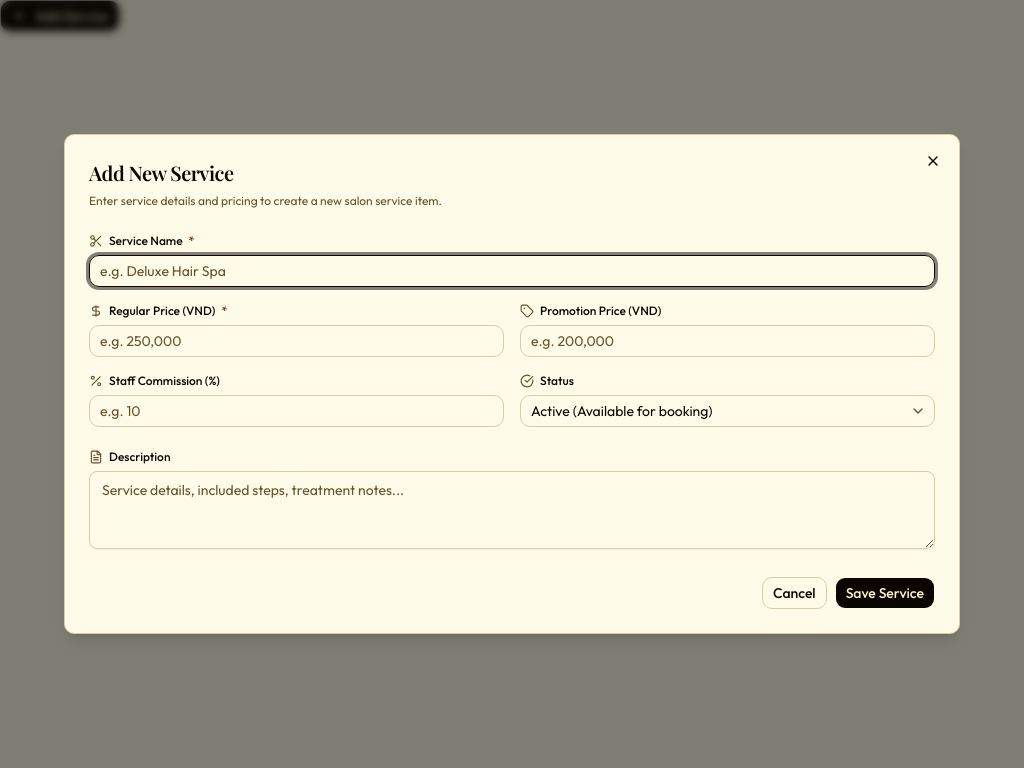
Scenario: ServiceFormDialog - Create Mode › validates commission must be between 0 and 100
The image size is (1024, 768).
Step 1. Type "Nail Art" into the field labelled "Service Name *" → (512,271), box [89, 255, 935, 287]
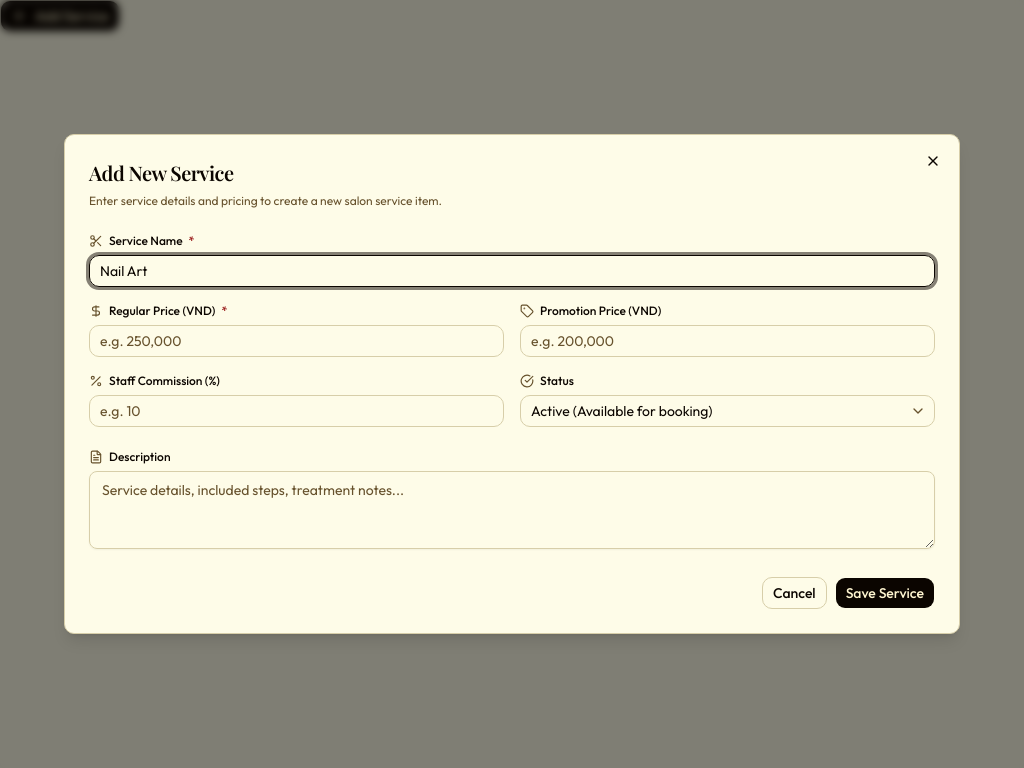
Step 2. Type "200000" into the field labelled "Regular Price (VND) *" → (296,341), box [89, 325, 504, 357]
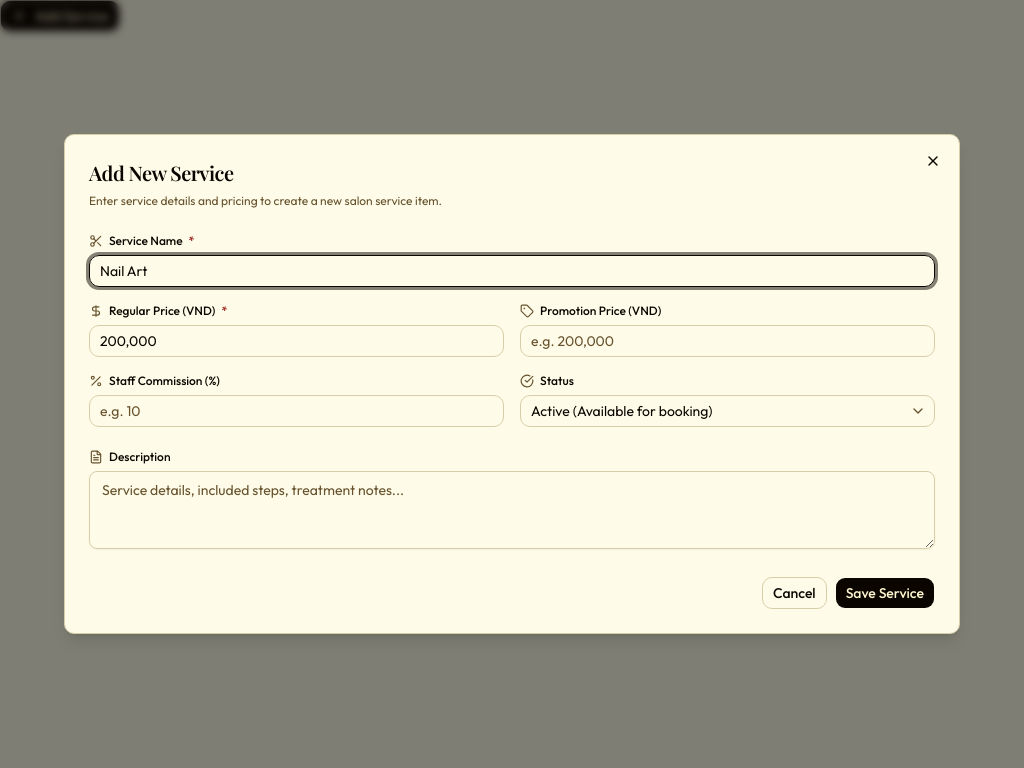
Step 3. Type "150" into the number field labelled "Staff Commission (%)" → (296,411), box [89, 395, 504, 427]
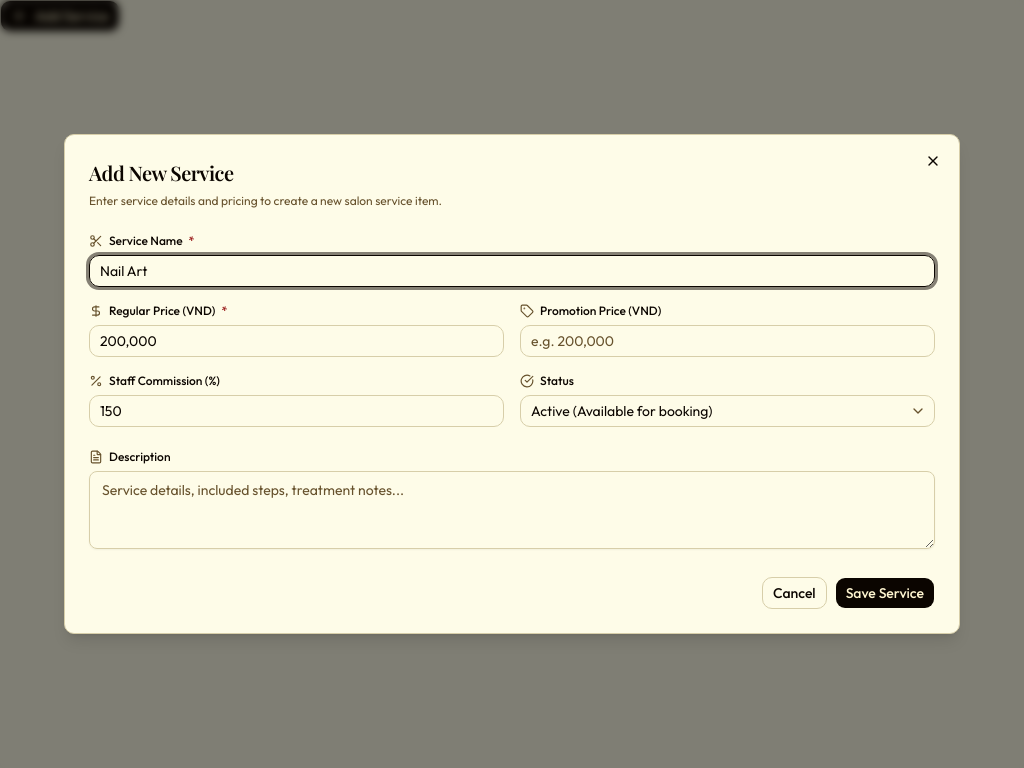
Step 4. Click the button "Save Service" → (885,593), box [835, 577, 935, 609]
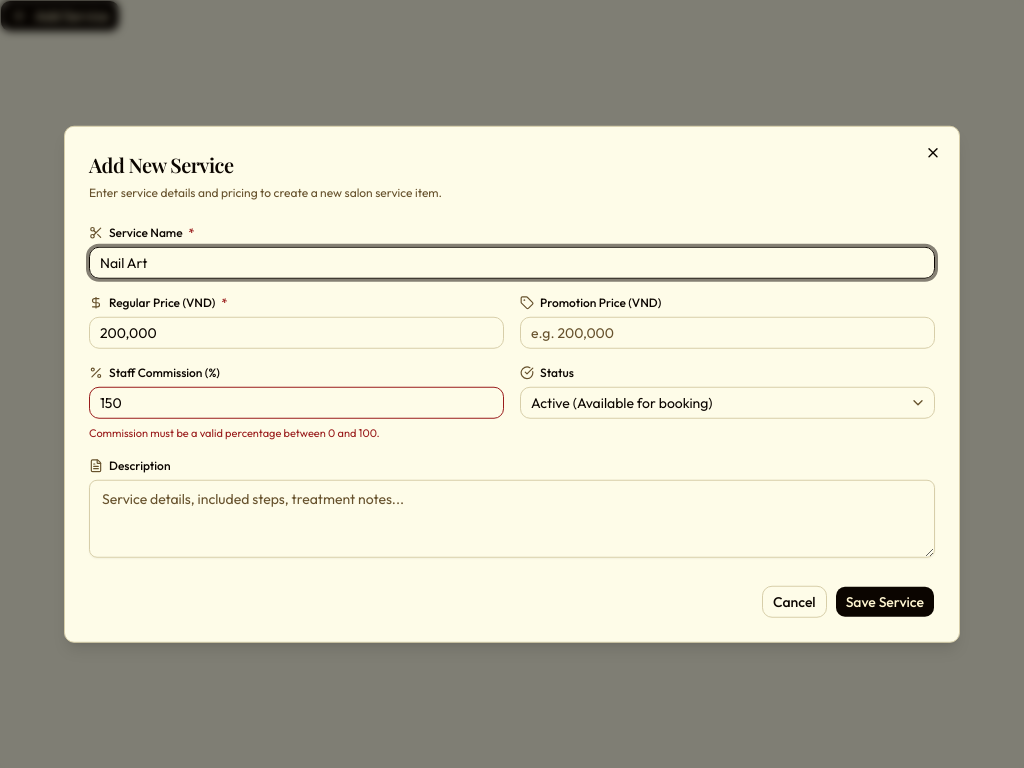
Check: the text "Commission must be a valid percentage between 0 and 100." is shown, box [89, 426, 380, 440]
